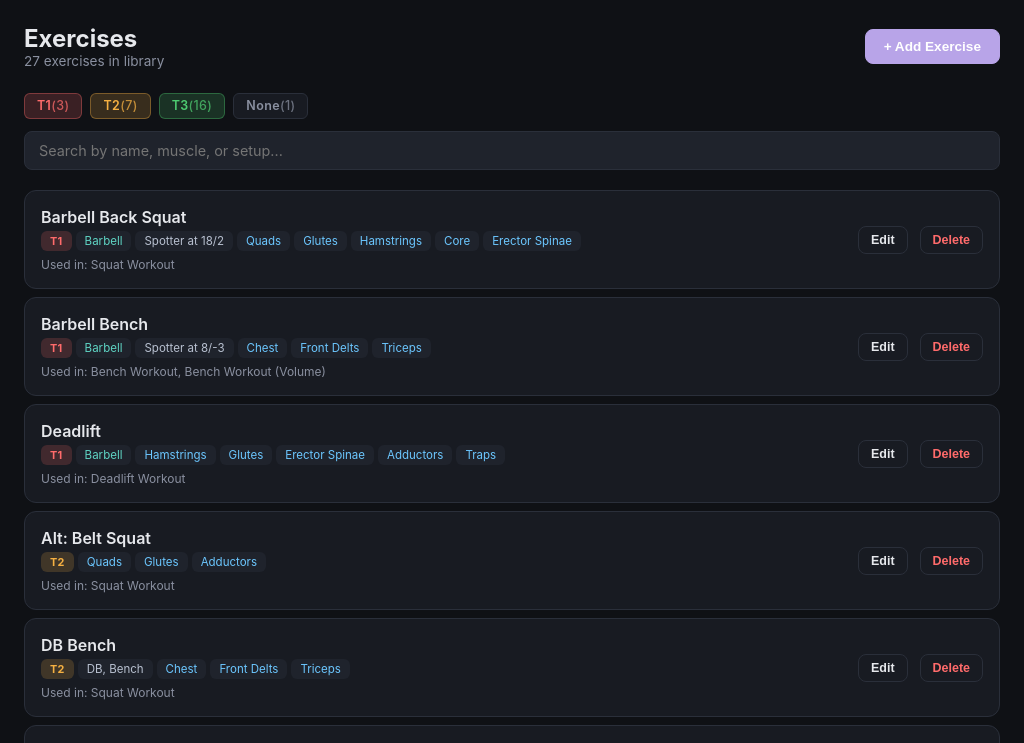
Test: ExercisesPage — tier filter pills › shows a working None pill once an untiered exercise exists
The image size is (1024, 743).
Click the button with aria-label "None,".
click(271, 106)  # box [233,93,308,120]
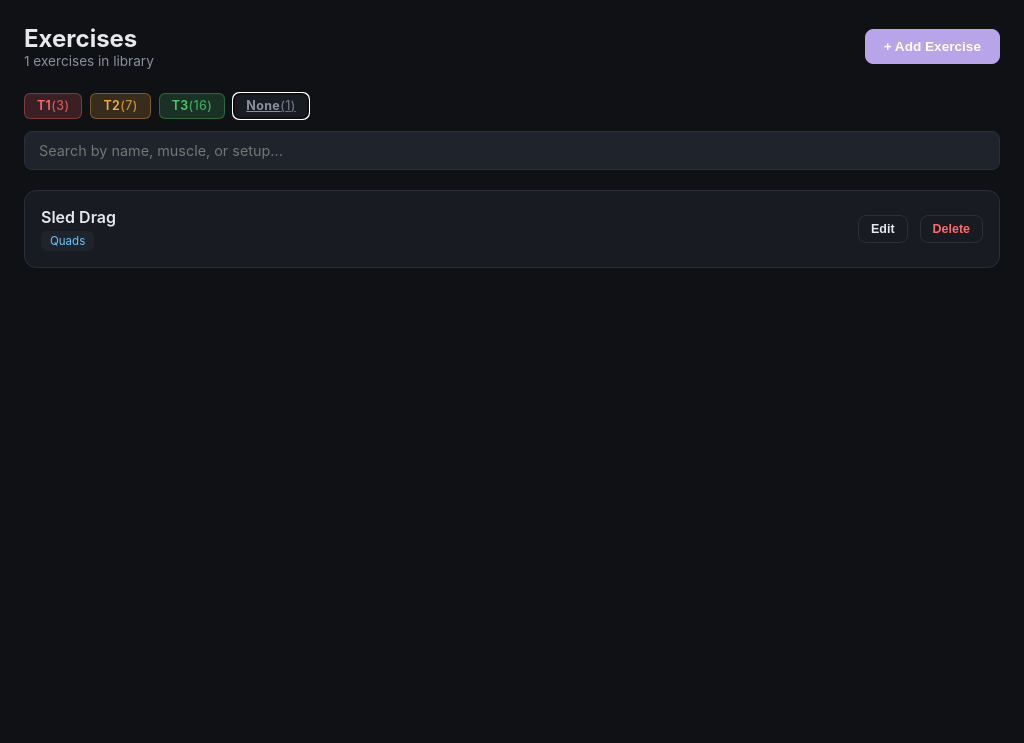
Check: the link "Sled Drag" is shown, box [41,208,116,228]
Check: the text "1 exercises in library" is shown, box [24,53,154,69]
